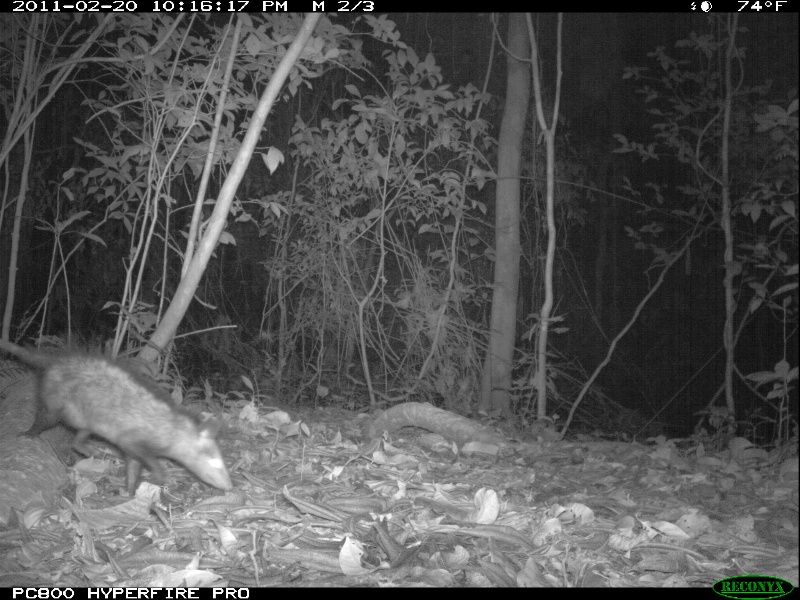opossum: (1, 334, 236, 500)
